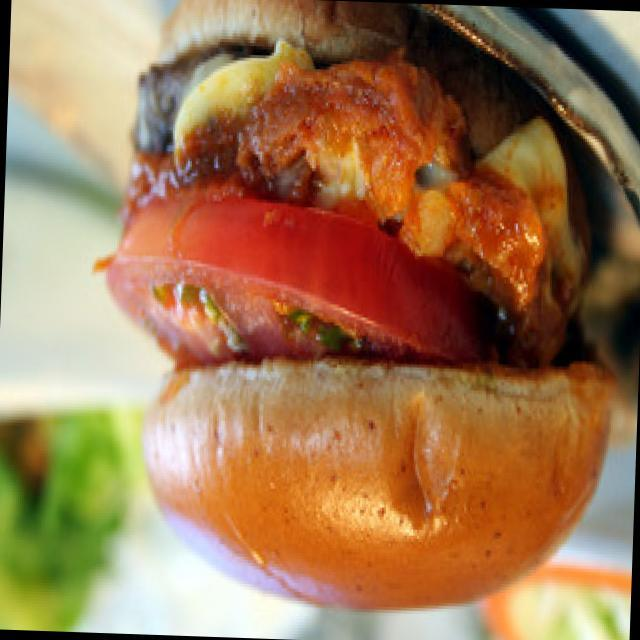Hamburger: (90, 0, 639, 629)
